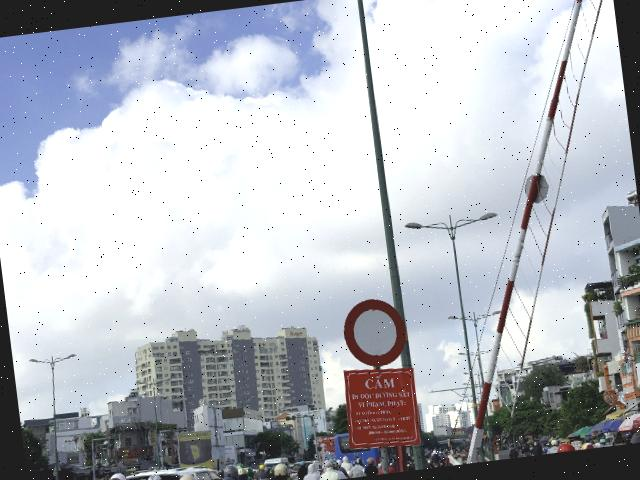duong-cam: (340, 296, 410, 370)
